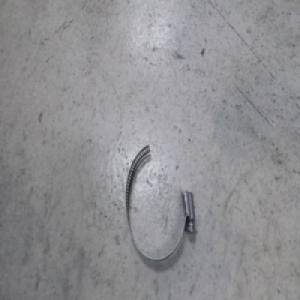AdjustableClamp: (122, 141, 192, 261)
